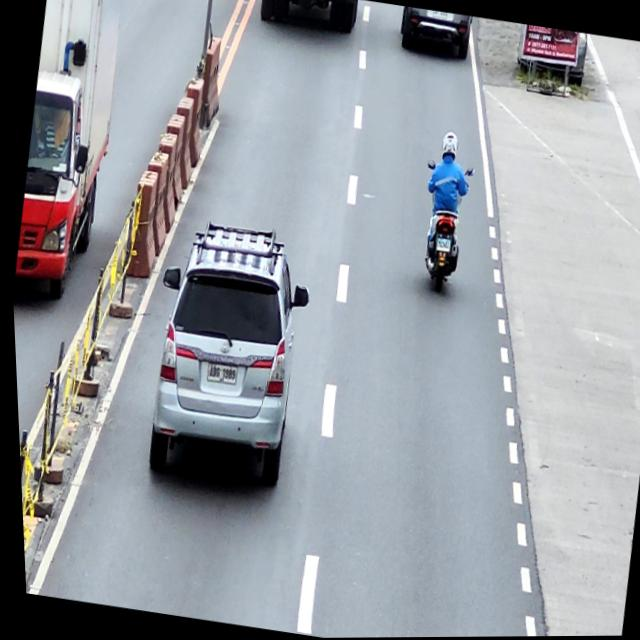Car: (128, 214, 323, 492), (396, 7, 474, 60)
License-Plate: (202, 363, 235, 386), (433, 239, 448, 254)
Motorcycle: (407, 158, 479, 299)
Truck: (0, 0, 142, 308)
